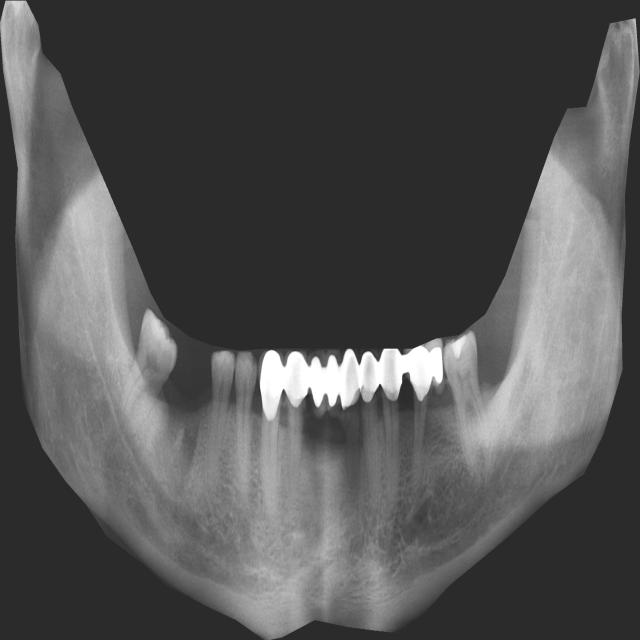mandibula: (0, 1, 640, 640)
